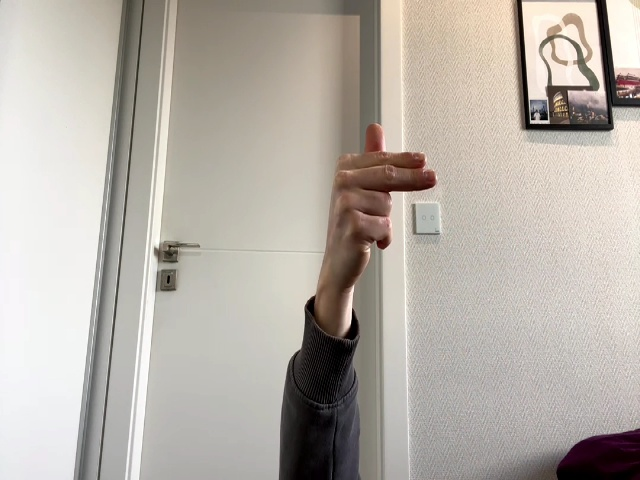N: (328, 124, 437, 265)
